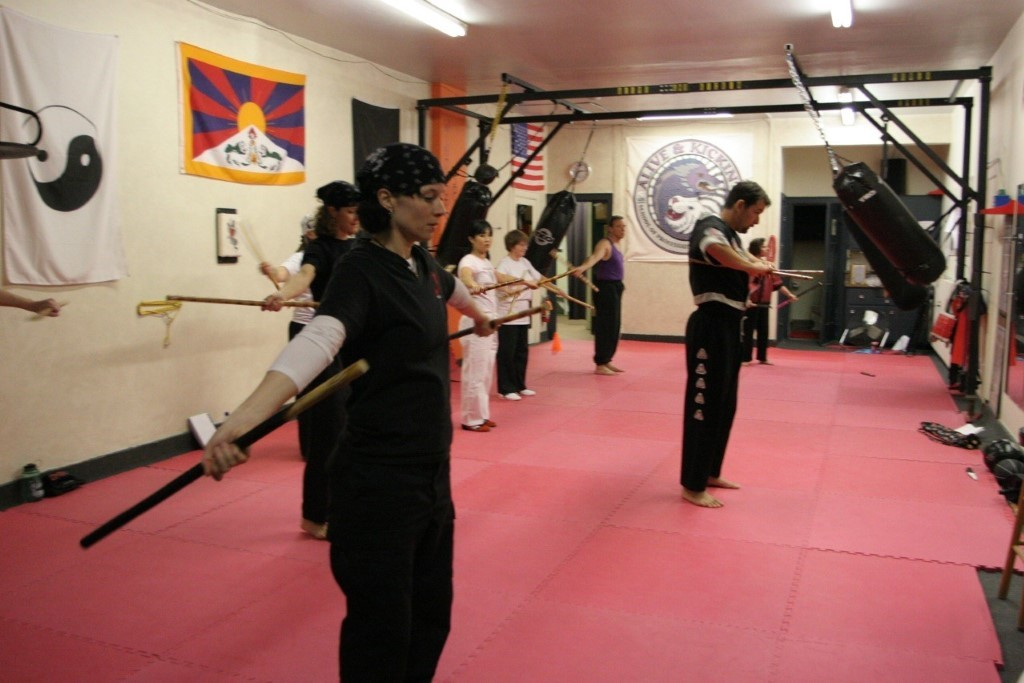baston_e: (89, 363, 354, 548), (449, 305, 542, 341), (171, 293, 316, 310), (551, 252, 596, 290), (542, 282, 592, 308), (528, 266, 579, 288), (780, 282, 817, 307), (471, 278, 520, 294), (771, 269, 808, 280), (785, 268, 822, 273)
baston_v: (355, 356, 373, 376), (76, 537, 89, 551), (538, 301, 549, 312), (548, 247, 557, 258), (816, 279, 825, 288), (817, 268, 826, 277), (164, 293, 172, 301), (275, 284, 282, 291), (775, 303, 782, 310), (590, 304, 598, 310), (807, 274, 814, 280), (519, 276, 525, 282), (594, 287, 600, 293)
